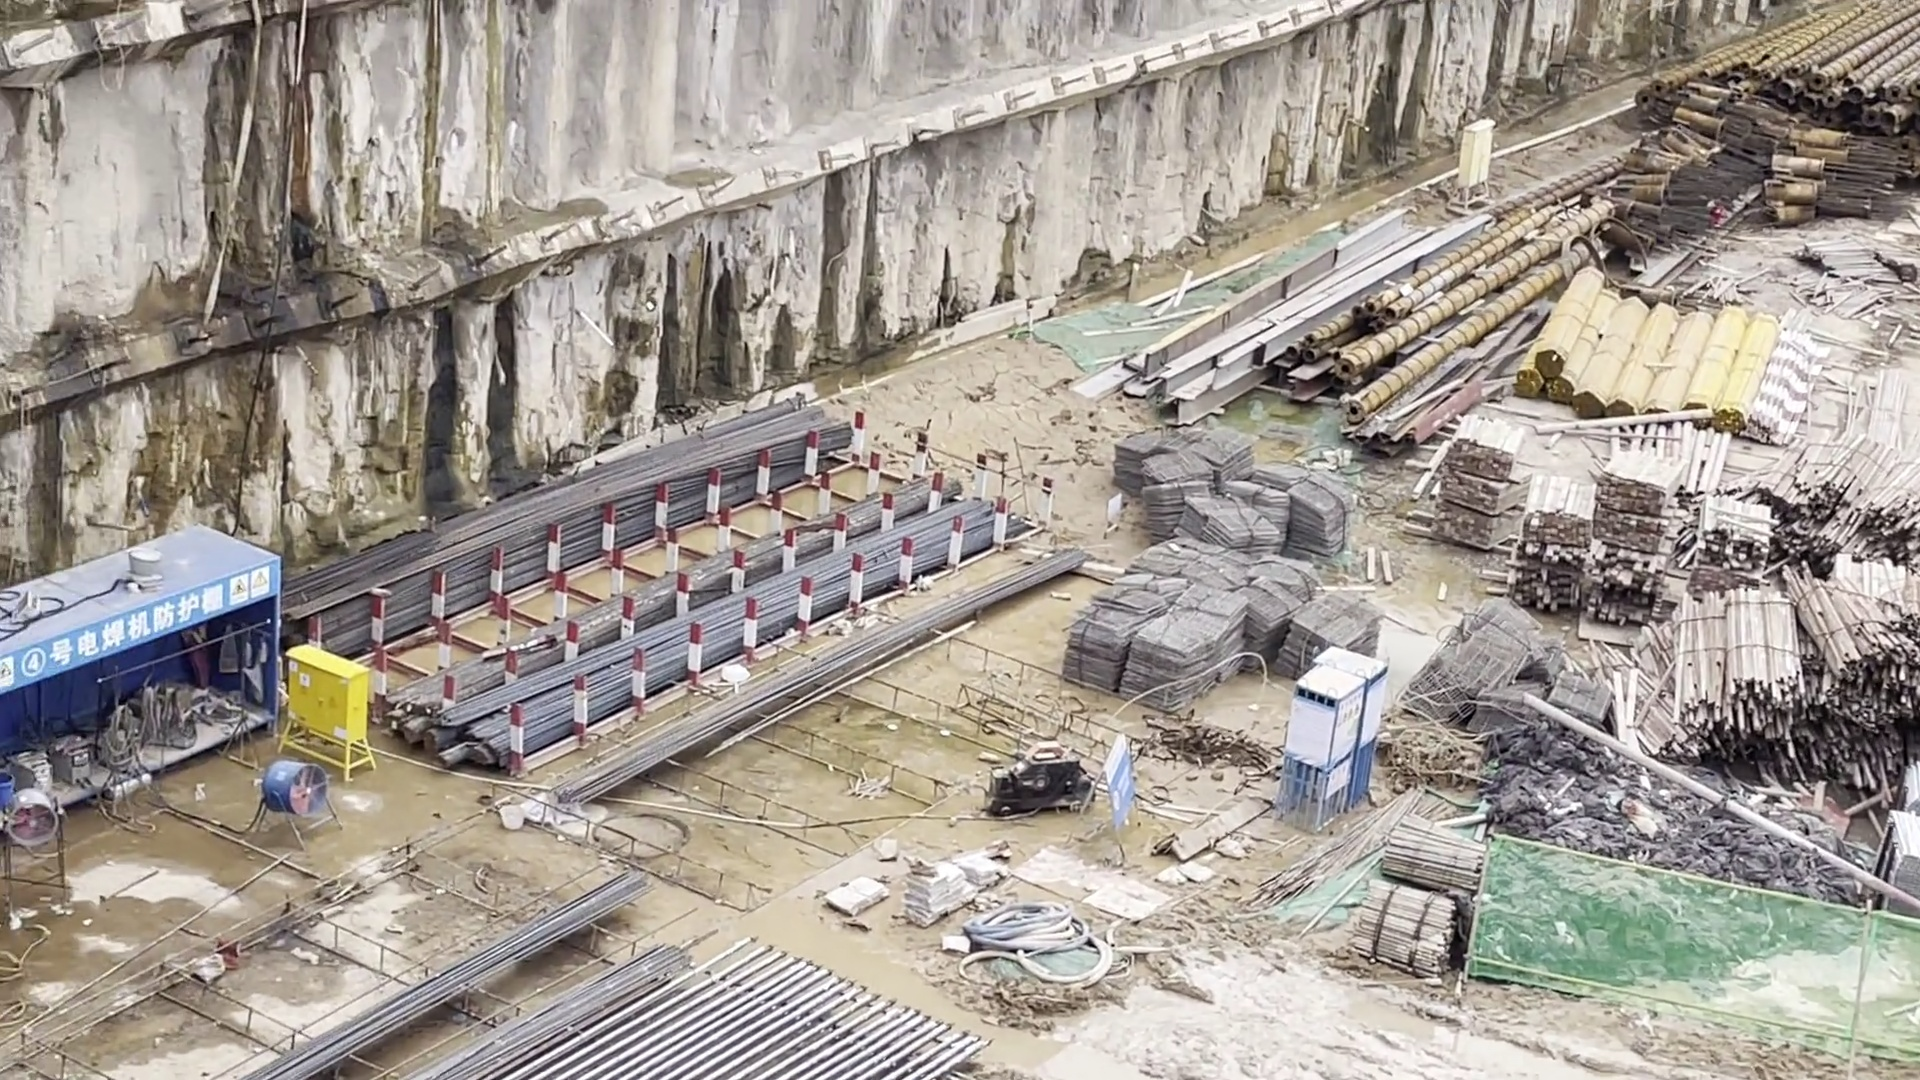ebox: (285, 644, 378, 781)
rebar: (284, 390, 1088, 798)
wood: (1431, 413, 1688, 628)
